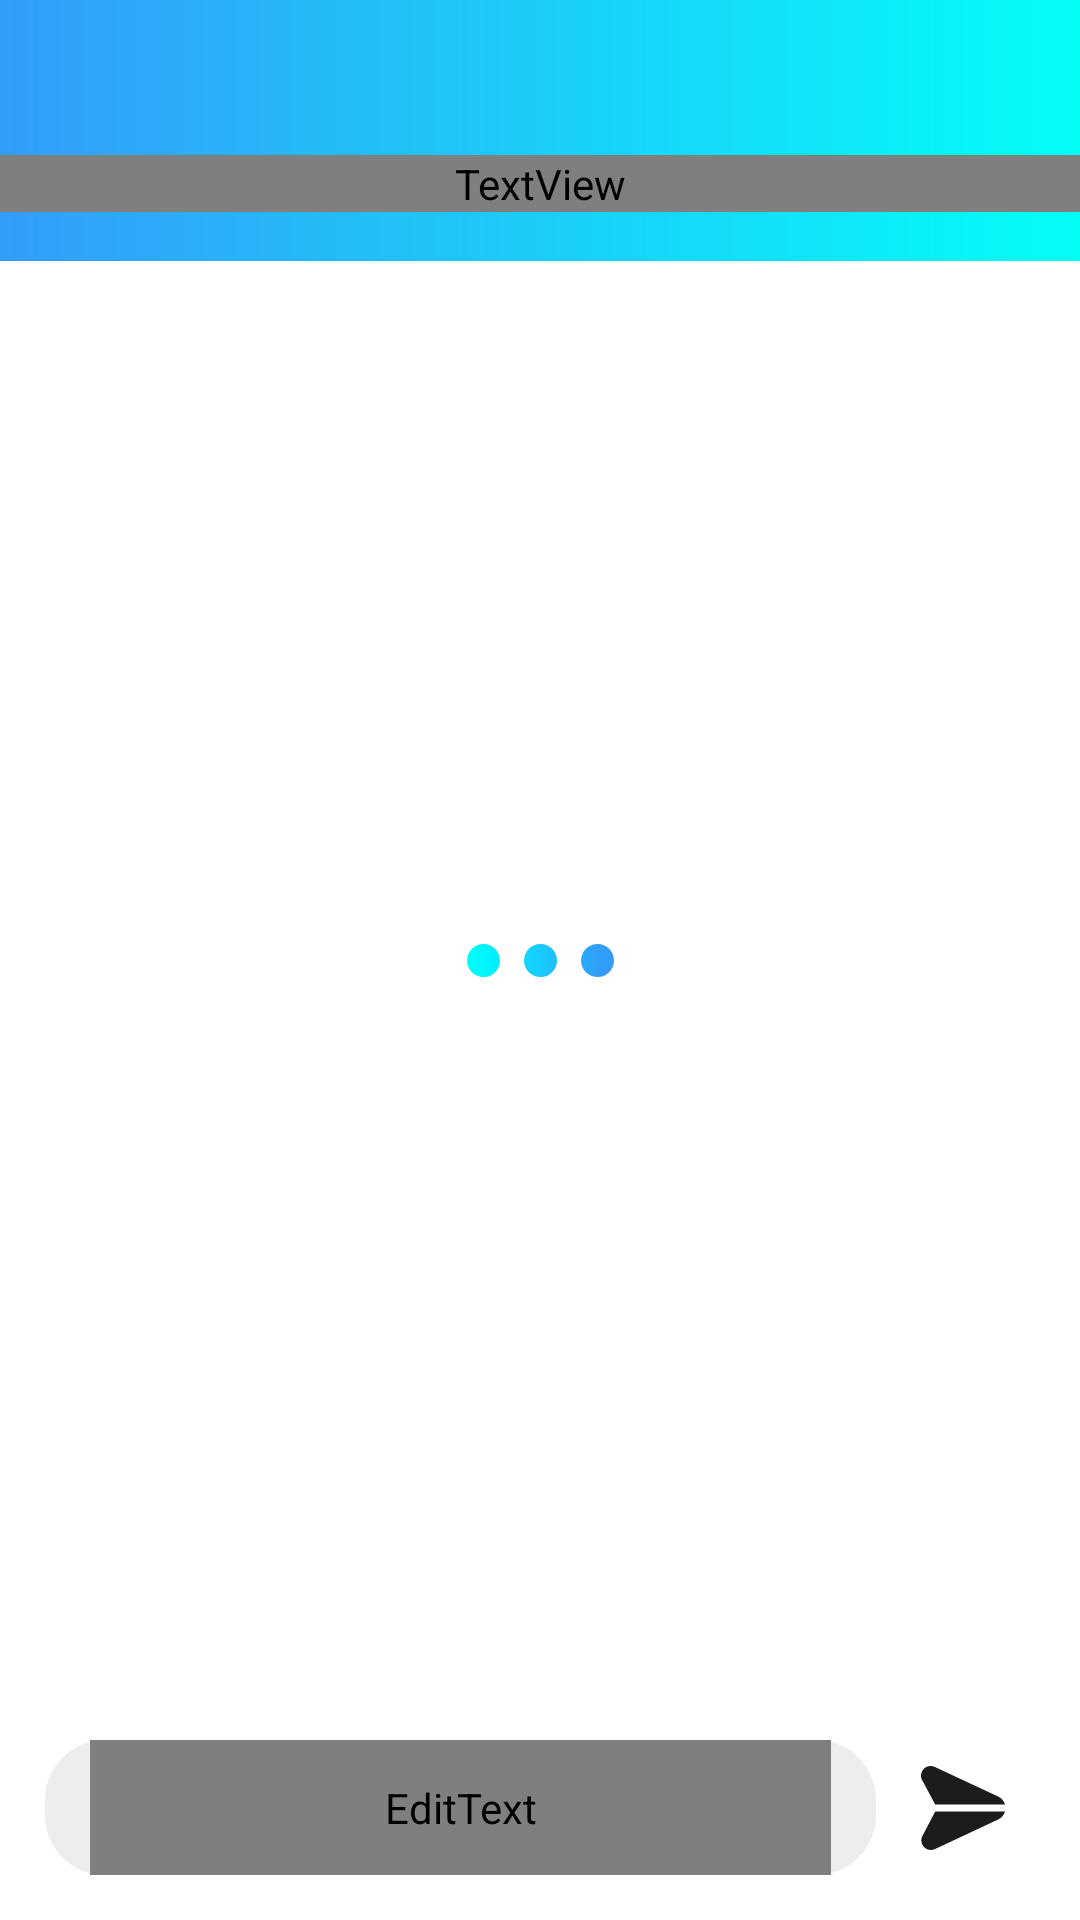

Icon click points for this 1080x1920 phone screenshot, format (x,y):
send: (963,1808)
